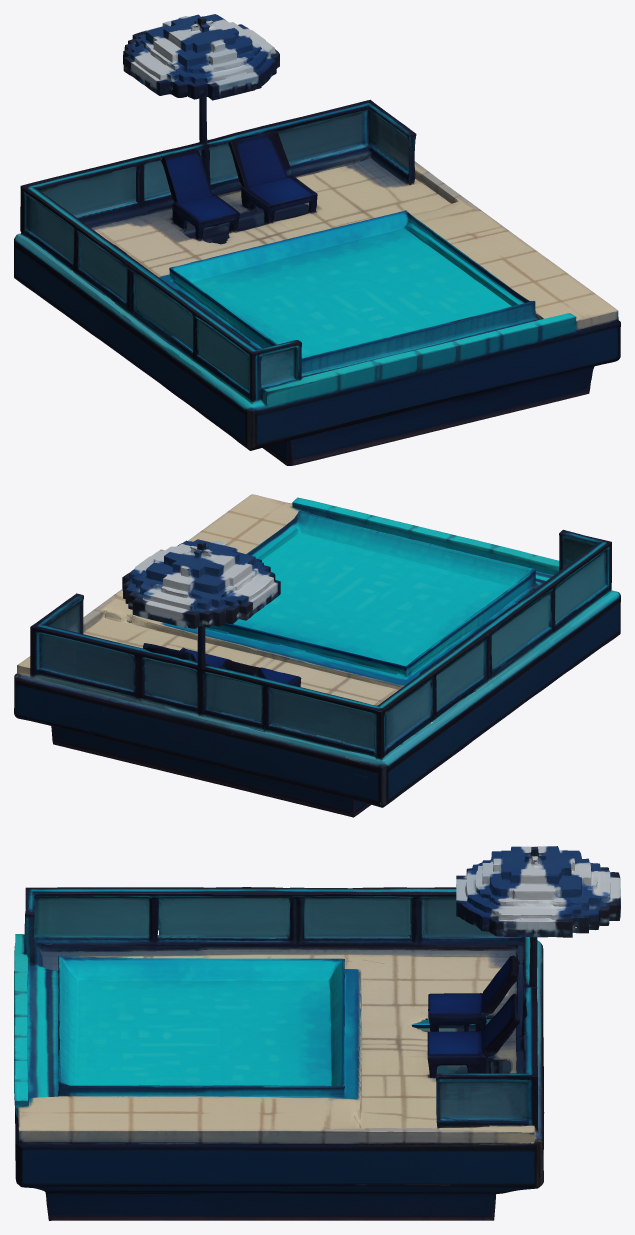
The model's file is pool.glb.
3 renders of one model, top to bottom at view 1: azimuth 30°, elevation 25°; view 2: azimuth 150°, elevation 25°; view 3: azimuth 270°, elevation 25°, orthographic. The views are drawn at different scales.
Parts seen in each view (by area): view 1: world; view 2: world; view 3: world.
Boxes of the visible parts, x1,y1,x2,y2 form: world: [14, 14, 620, 465]; world: [14, 494, 620, 817]; world: [14, 846, 620, 1220].
Size of the model in its own units: 0.7864 by 0.5146 by 1.
1 material, 1 textured.
